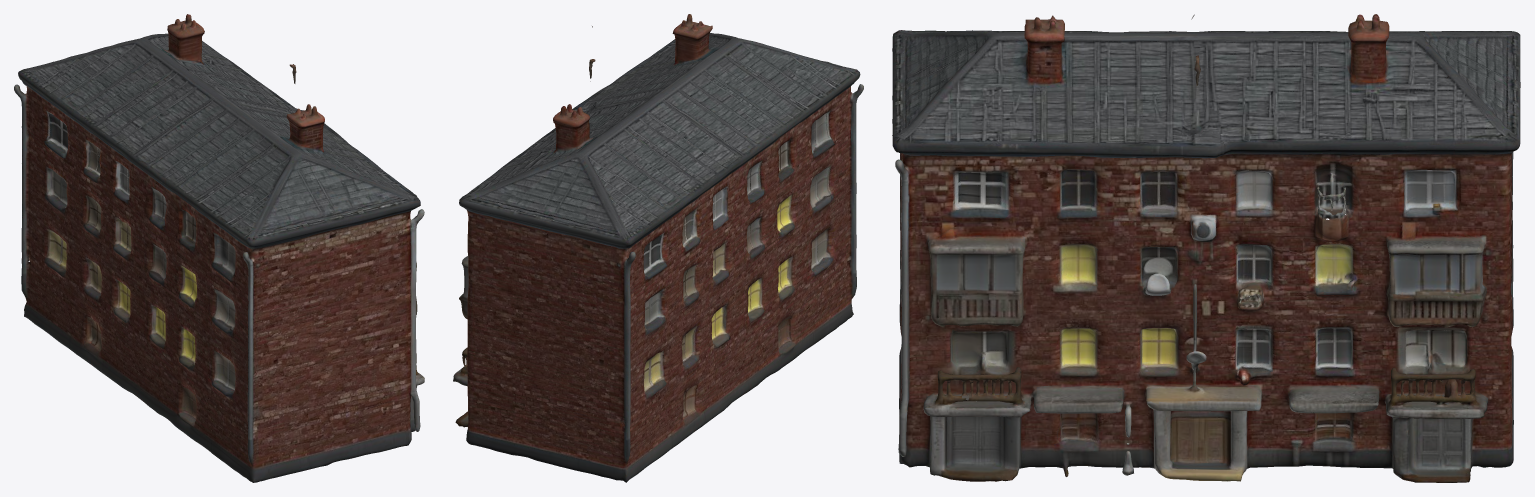
Rendered from g67_brick_house.glb.
3 renders of one model, left to right at view 1: azimuth 30°, elevation 25°; view 2: azimuth 150°, elevation 25°; view 3: azimuth 270°, elevation 25°, orthographic. The views are drawn at different scales.
Parts seen in each view (by area): view 1: tripo_node_dd374fd2; view 2: tripo_node_dd374fd2; view 3: tripo_node_dd374fd2.
Part boxes in pixels (x1=…): tripo_node_dd374fd2: x1=14, y1=14, x2=424, y2=482; tripo_node_dd374fd2: x1=453, y1=14, x2=863, y2=482; tripo_node_dd374fd2: x1=892, y1=14, x2=1520, y2=482.
Size of the model in its own units: 47.83 by 77.16 by 97.83.
1 material, 1 textured.
